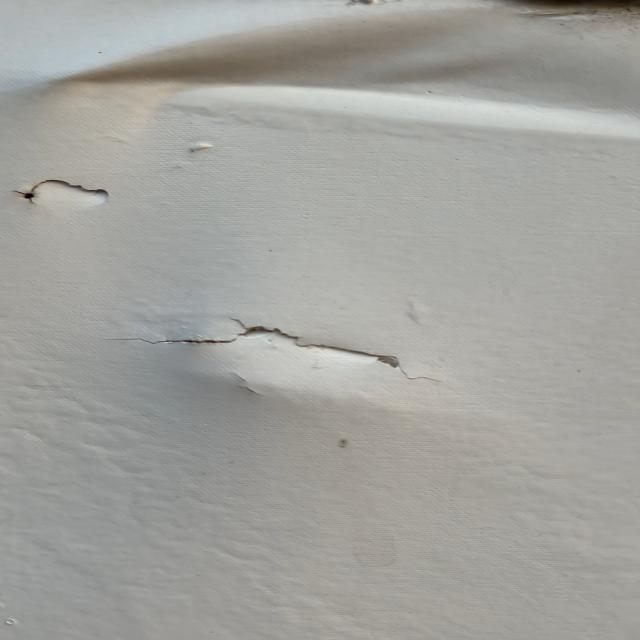Dents or Deformation: (27, 1, 640, 146)
Scratches: (96, 309, 450, 390), (1, 177, 149, 224)
